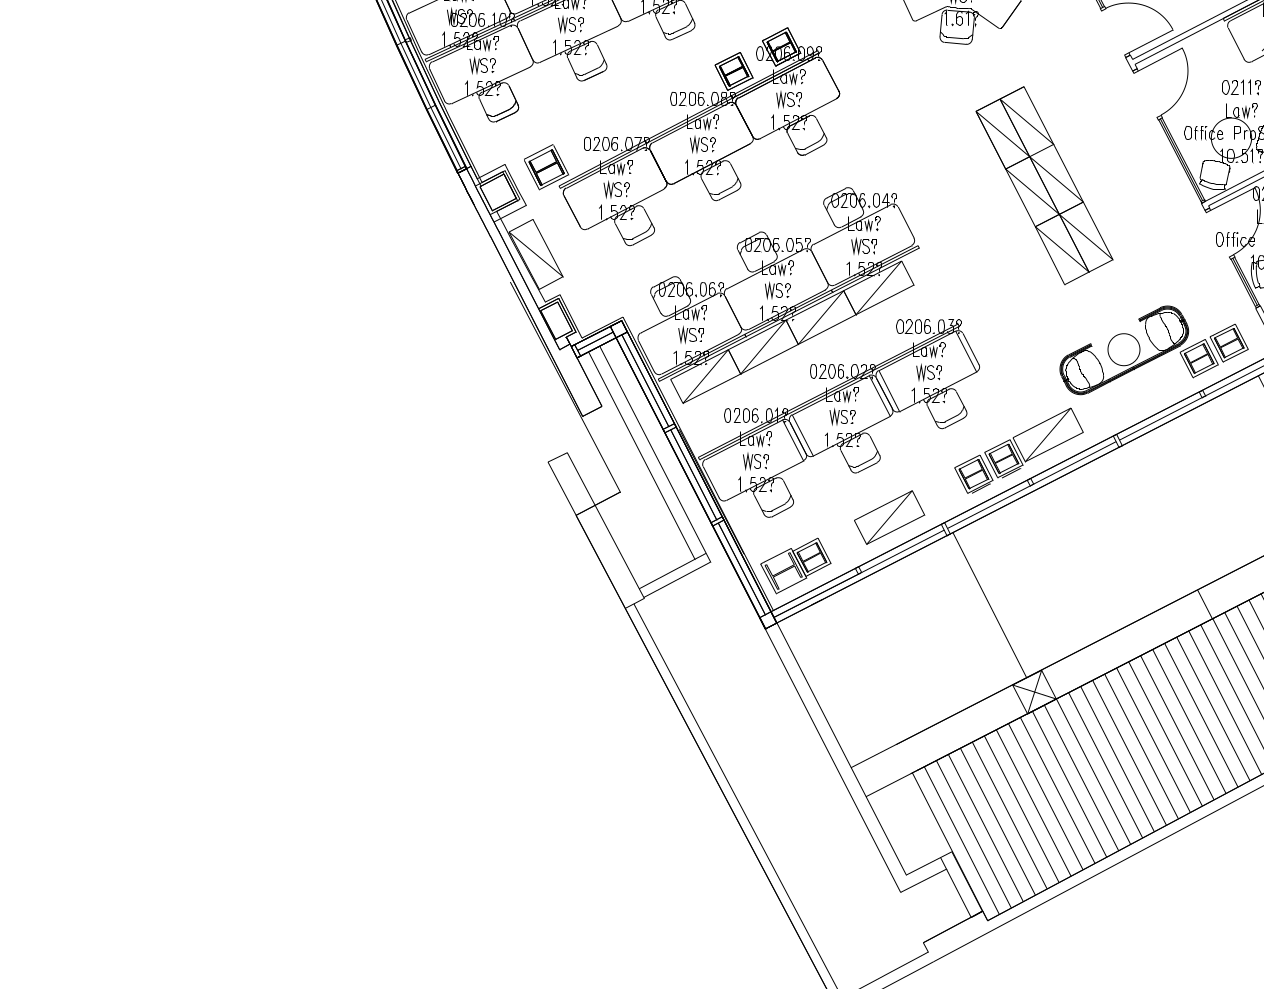door: (1136, 44, 1198, 124), (1202, 181, 1264, 261), (1098, 1, 1179, 61)
